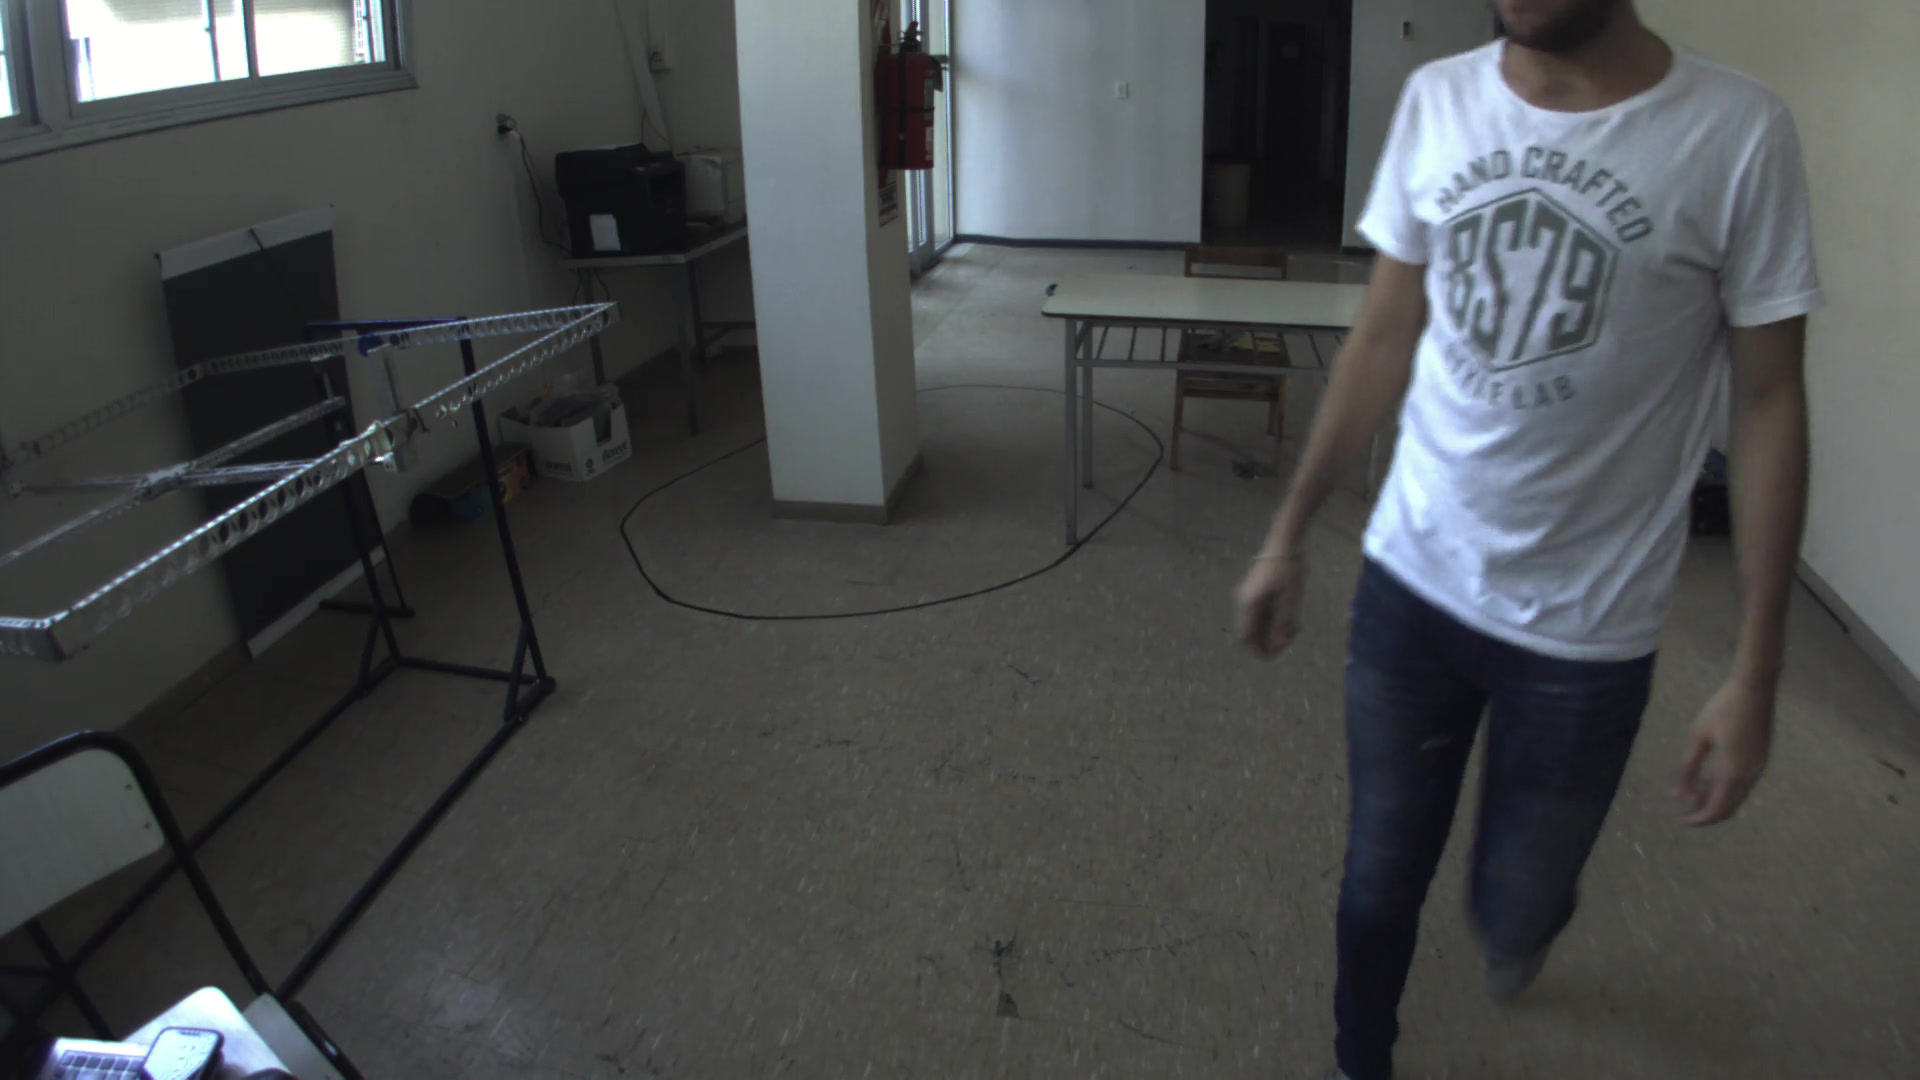hand: (1667, 674, 1782, 829), (1230, 537, 1317, 666)
